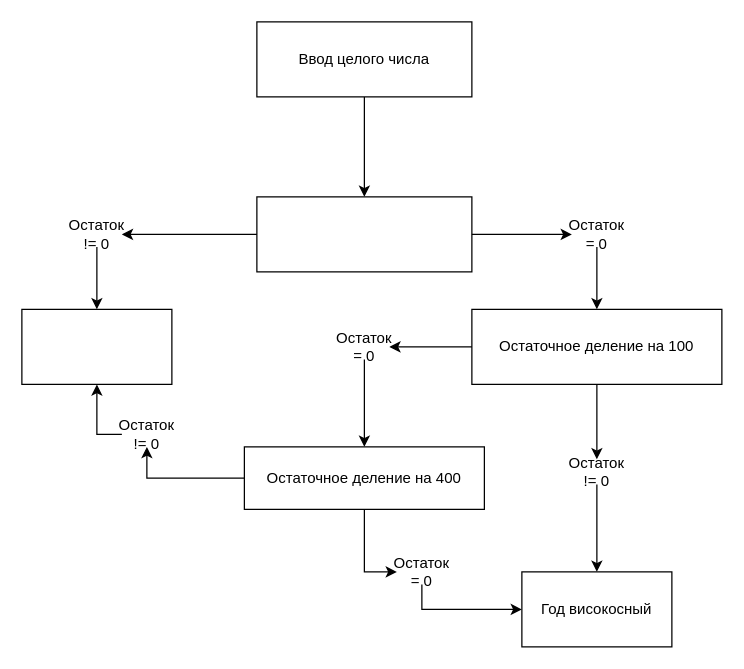
The diagram is 744 pixels wide and 669 high, and some of its shapes have lost their labels. Here are the shapes that lost their labels. From the top down, the box of each, then its label:
(256, 196, 472, 272): Остаточное деление на 4
(21, 308, 172, 384): Год не високосный
